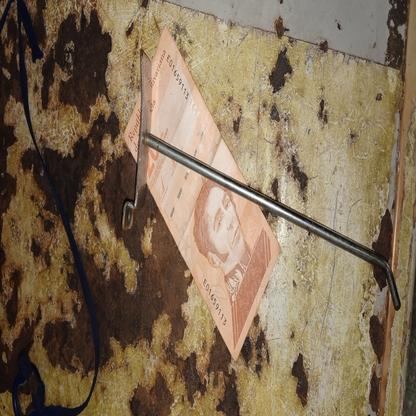twenty-front-vef: (122, 23, 282, 362)
